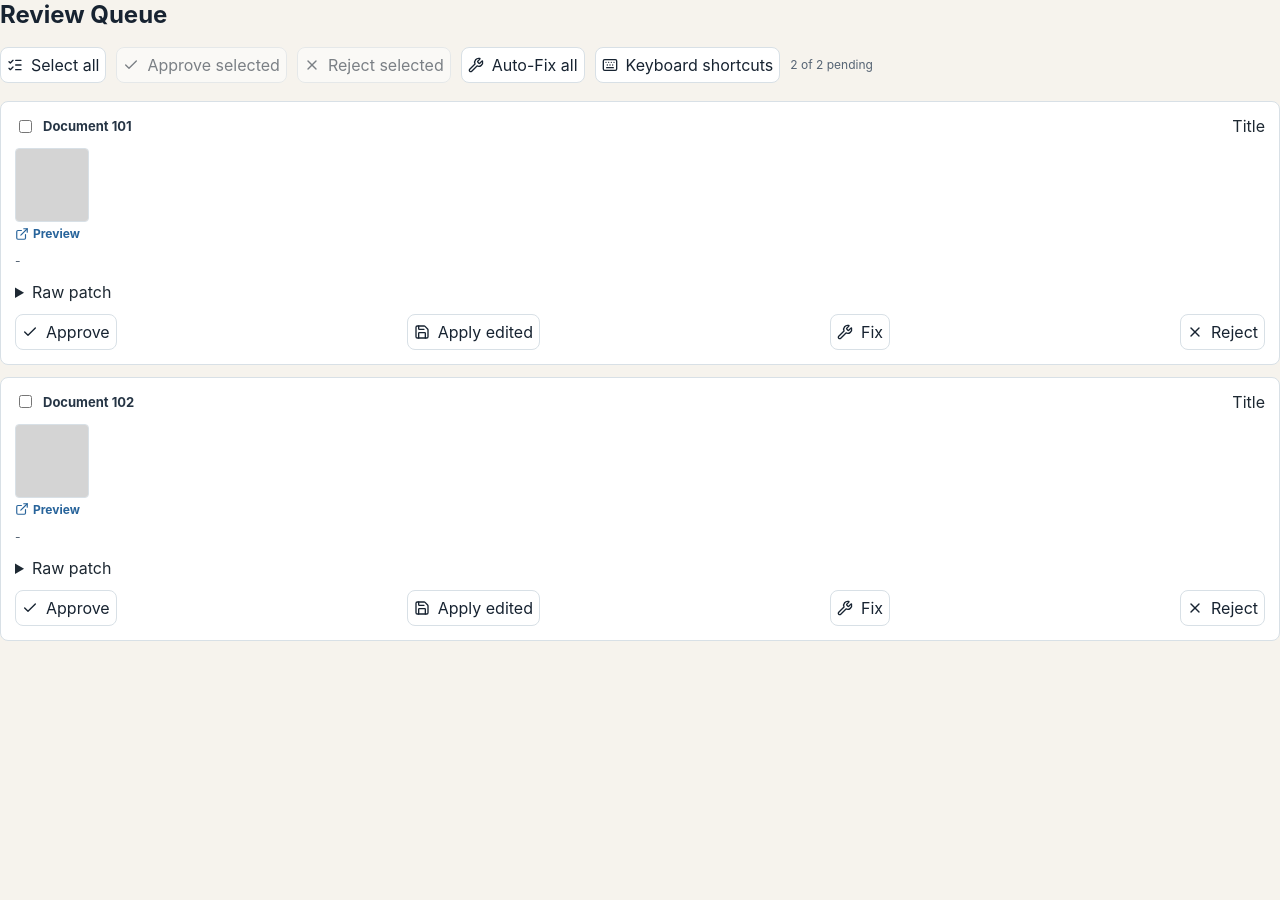
<Reviews> behaviour › does not run auto-fix or a batch when the confirmation is cancelled (#417)
The width and height of the screenshot is (1280, 900).
Expected: the text "Document 101" is shown, [43, 118, 132, 134]
Click the button "Auto-Fix all" at {"x": 523, "y": 65}, box [461, 47, 584, 83]
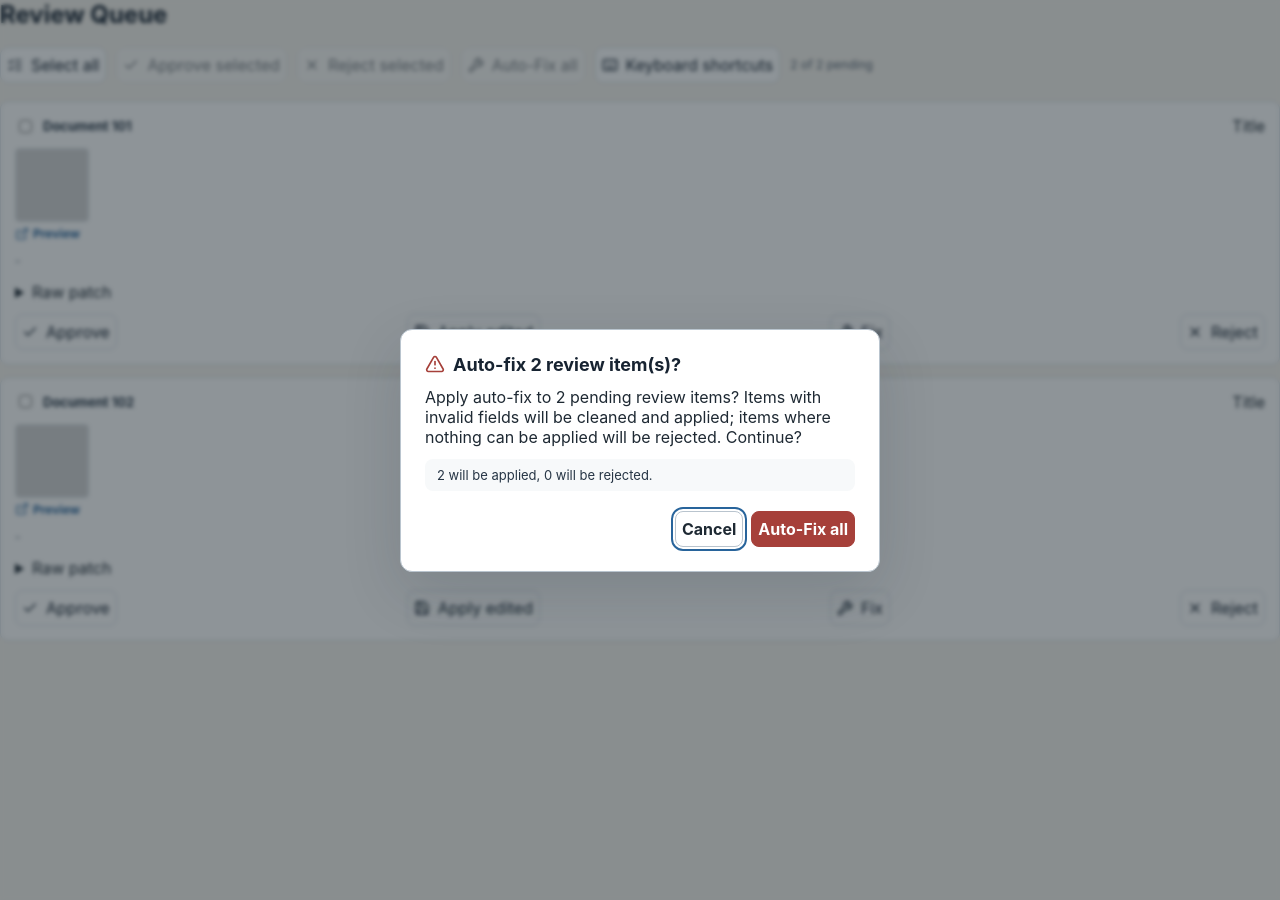
Click the button "Cancel" at {"x": 709, "y": 528}, box [675, 510, 743, 546]
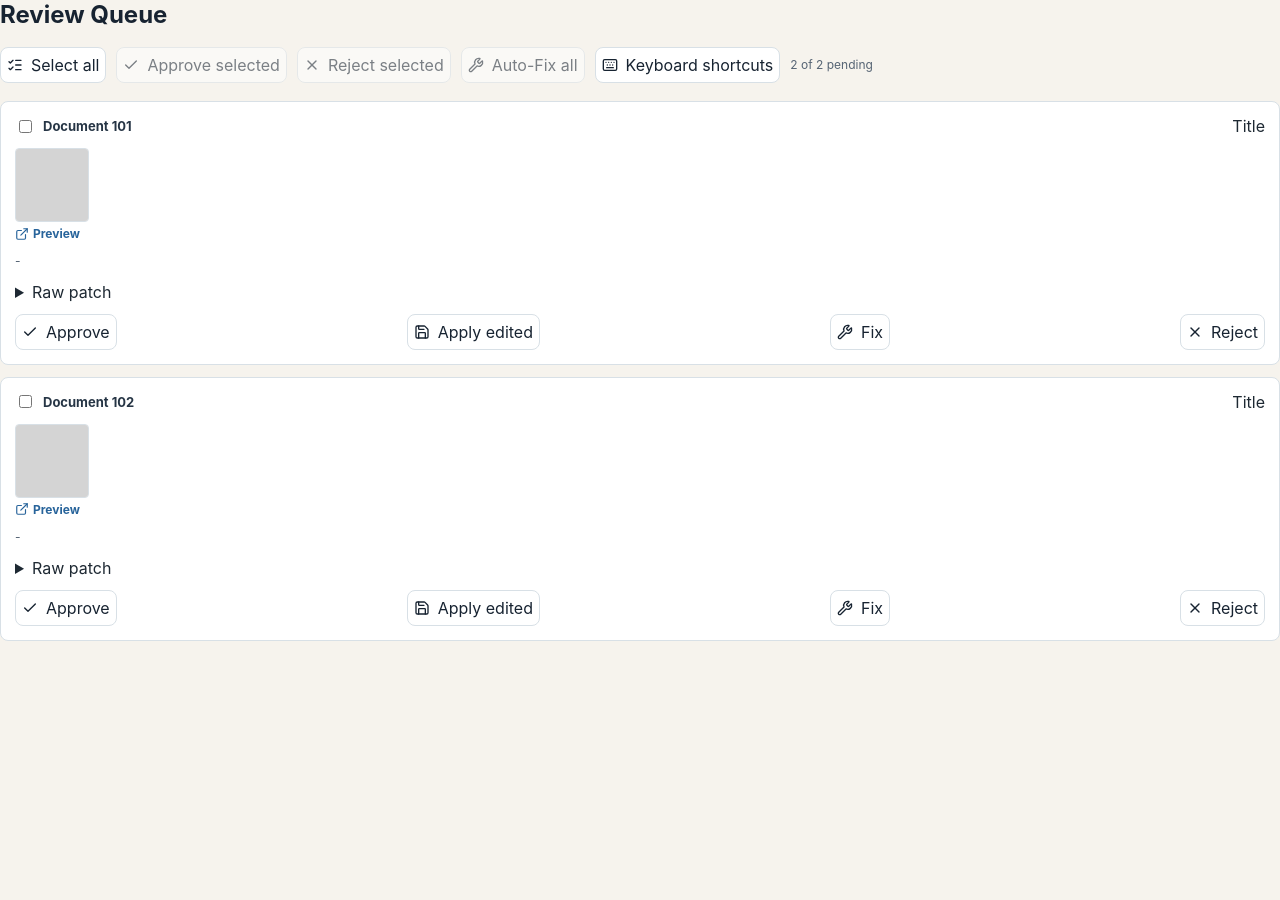
Result: the dialog is gone
Click the button "Select all" at {"x": 53, "y": 65}, box [0, 47, 106, 83]
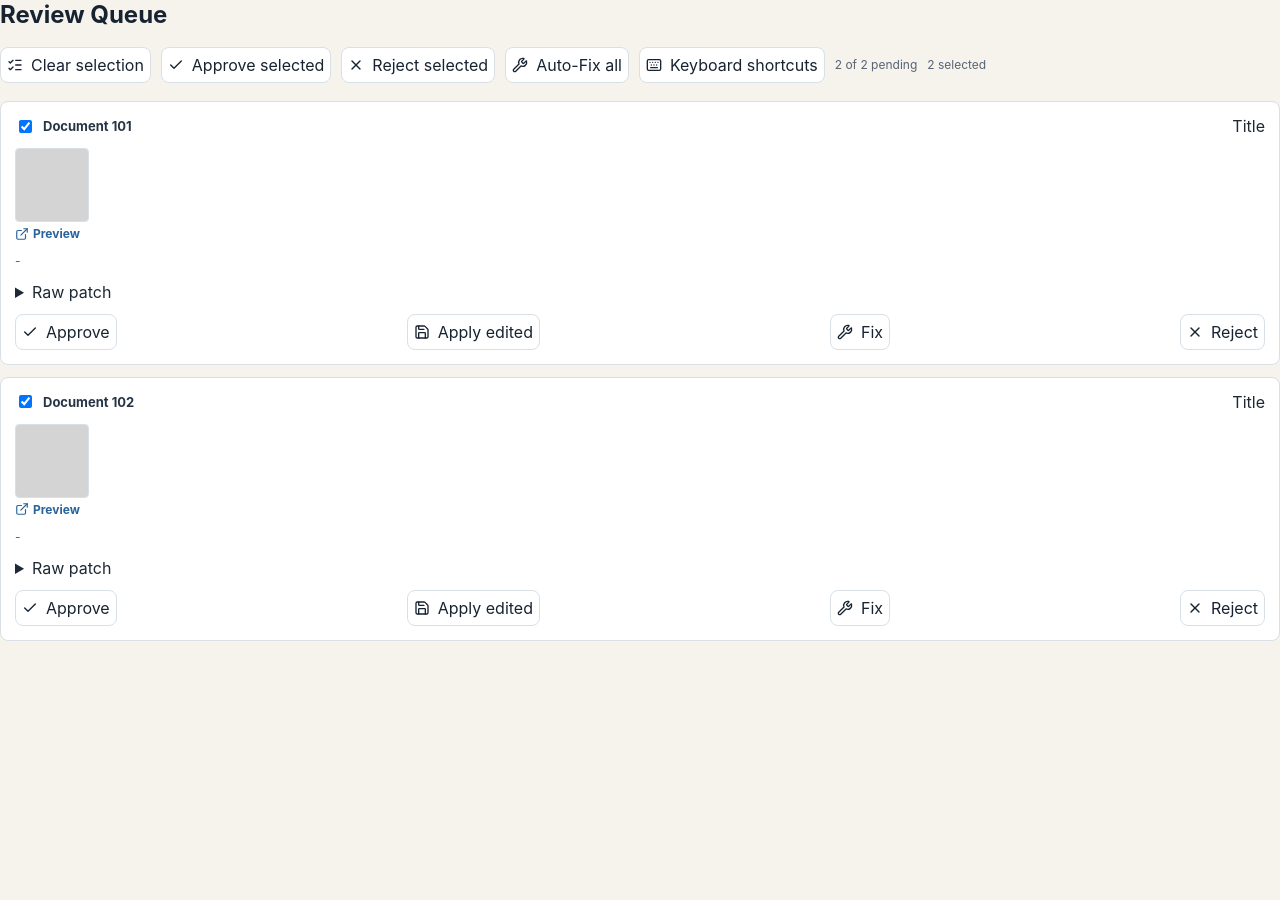
Click the button "Reject selected" at {"x": 418, "y": 65}, box [341, 47, 495, 83]
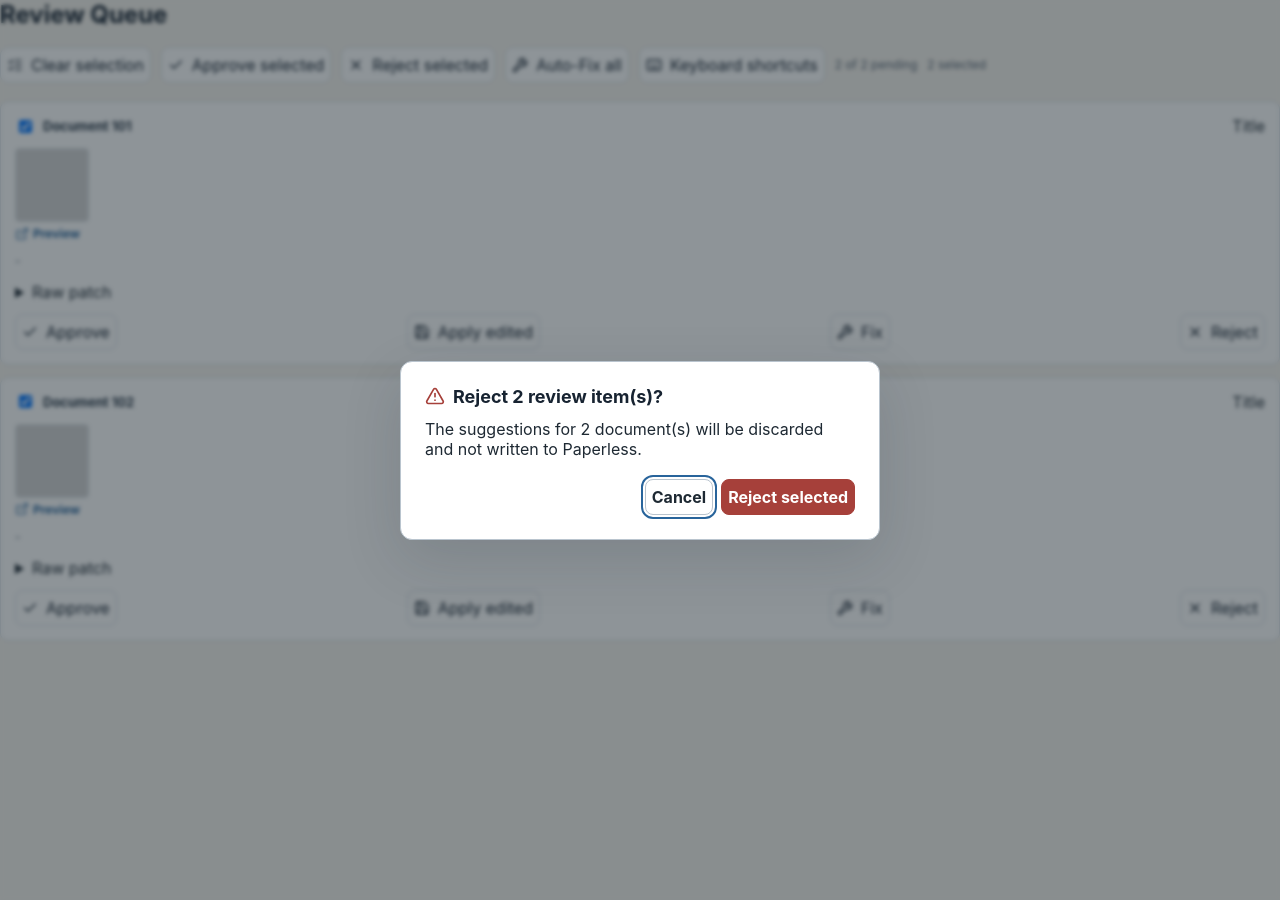
Press Escape
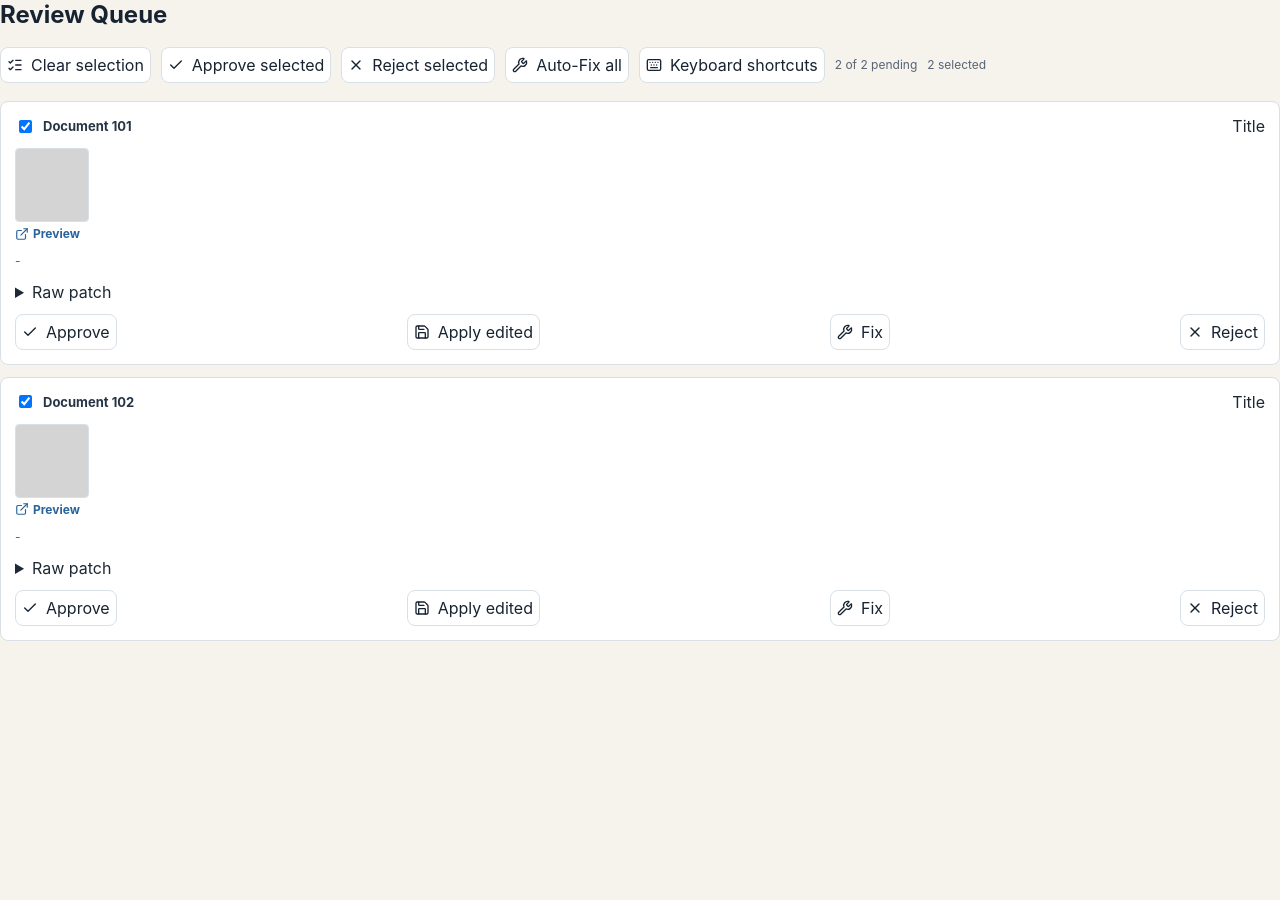
Result: the dialog is gone
Result: the heading "Reject 2 review item(s)?" is gone
